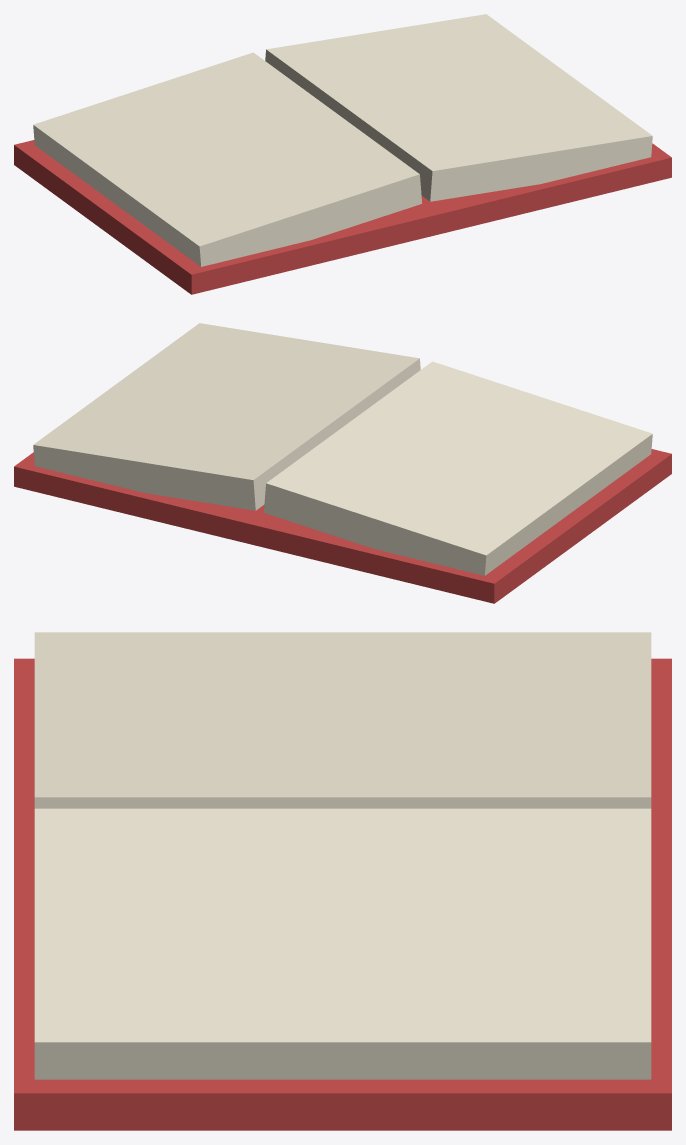
Rendered from SM_Book_Open.glb.
3 views of the same model, one above another, from view 1: azimuth 30°, elevation 25°; view 2: azimuth 150°, elevation 25°; view 3: azimuth 270°, elevation 25° (orthographic). The views are drawn at different scales.
Visible parts, largest first — view 1: SM_Book_Open; view 2: SM_Book_Open; view 3: SM_Book_Open.
Part boxes in pixels (x1,y1,x2,y2): SM_Book_Open: (14, 14, 671, 294); SM_Book_Open: (14, 323, 671, 603); SM_Book_Open: (14, 632, 671, 1130).
Bounding box in the file's own units: 0.5 × 0.0591 × 0.32.
